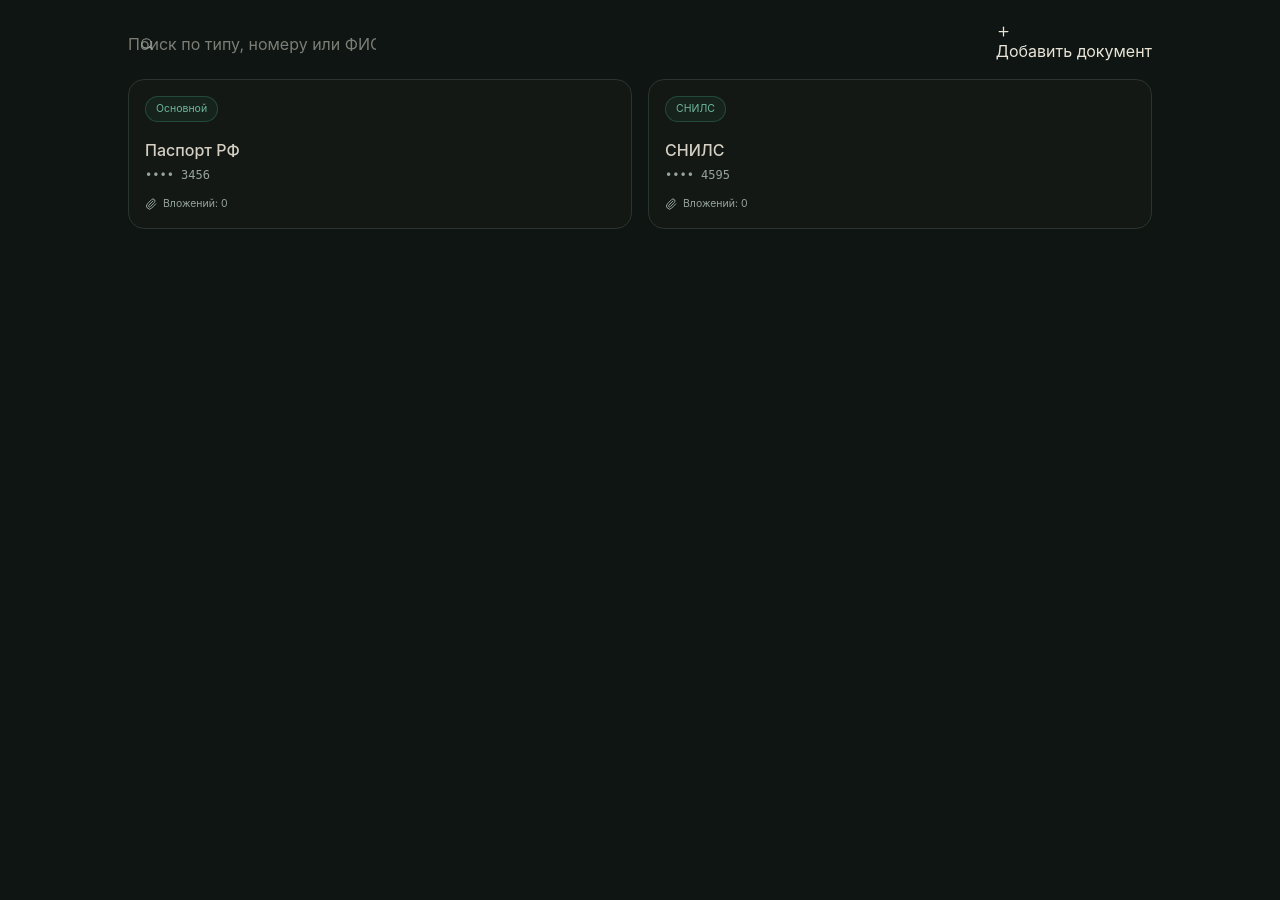
DocumentsView › opens the document detail
What coordinates should you click on to do the following:
click the button with aria-label "Паспорт РФ · 3456"
I would click on:
 (182, 109)
Its box is [128,79,632,228].
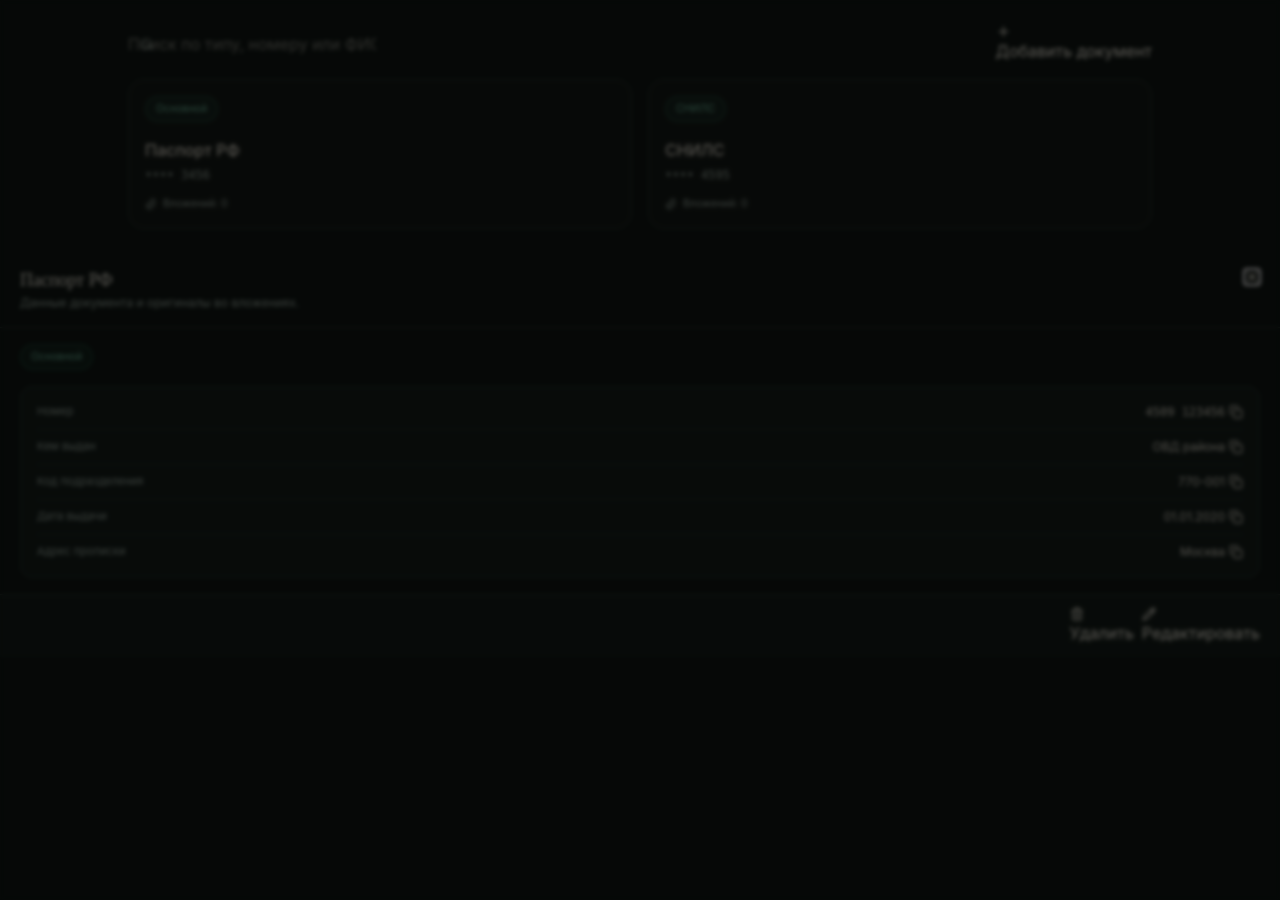
Expected: the text "Основной" is shown, [20,344,93,370]
Expected: the heading "Паспорт РФ" is shown, [20,270,113,290]
